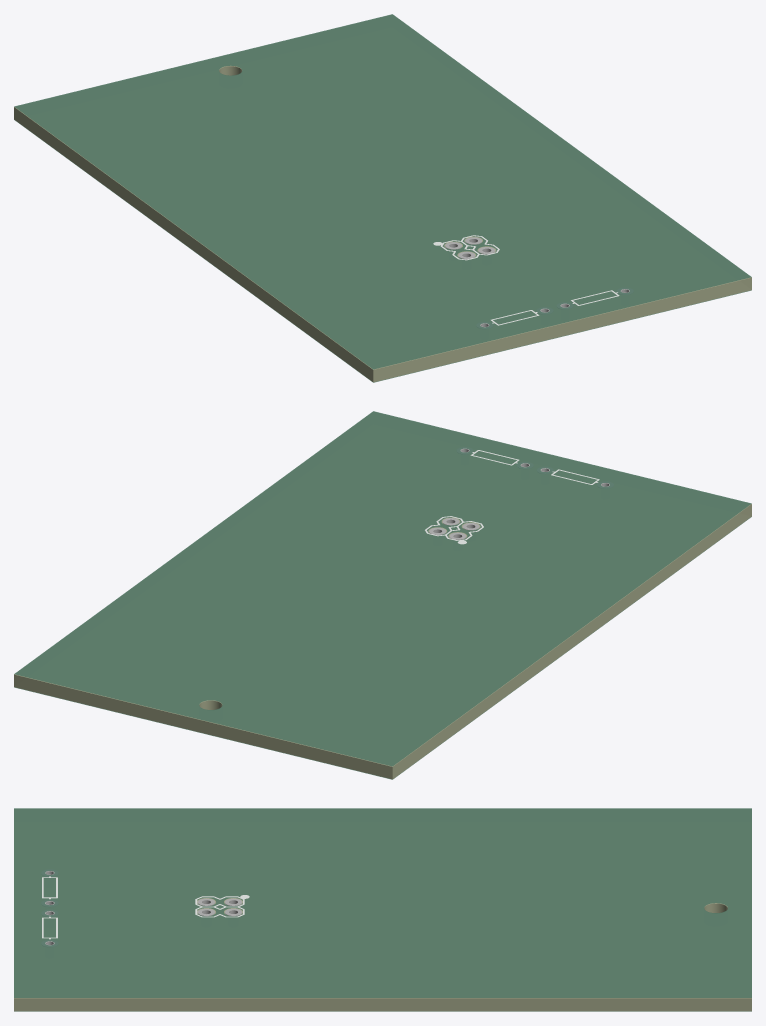
File: sao-faces-terminator-badgewife-smiley.glb
3 views of the same model, one above another, from view 1: azimuth 30°, elevation 25°; view 2: azimuth 150°, elevation 25°; view 3: azimuth 270°, elevation 25° (orthographic). The views are drawn at different scales.
Visible parts, largest first — view 1: =>[0:1:1:8], =>[0:1:1:6], =>[0:1:1:2], =>[0:1:1:4]; view 2: =>[0:1:1:8], =>[0:1:1:6], =>[0:1:1:2], =>[0:1:1:4]; view 3: =>[0:1:1:8], =>[0:1:1:6], =>[0:1:1:2], =>[0:1:1:4].
Part boxes in pixels (box(x1,y1,x2,y2)): =>[0:1:1:8]: box(14, 15, 751, 382); =>[0:1:1:6]: box(14, 14, 751, 382); =>[0:1:1:2]: box(445, 237, 633, 328); =>[0:1:1:4]: box(433, 235, 619, 325); =>[0:1:1:8]: box(14, 412, 751, 779); =>[0:1:1:6]: box(14, 411, 751, 779); =>[0:1:1:2]: box(429, 447, 613, 539); =>[0:1:1:4]: box(425, 450, 599, 544); =>[0:1:1:8]: box(14, 809, 751, 1011); =>[0:1:1:6]: box(14, 808, 751, 1011); =>[0:1:1:2]: box(41, 870, 242, 946); =>[0:1:1:4]: box(42, 876, 249, 939).
Size of the model in its own units: 0.0479 by 0.00166 by 0.0788.
Materials: 4 (4 with a texture image).
